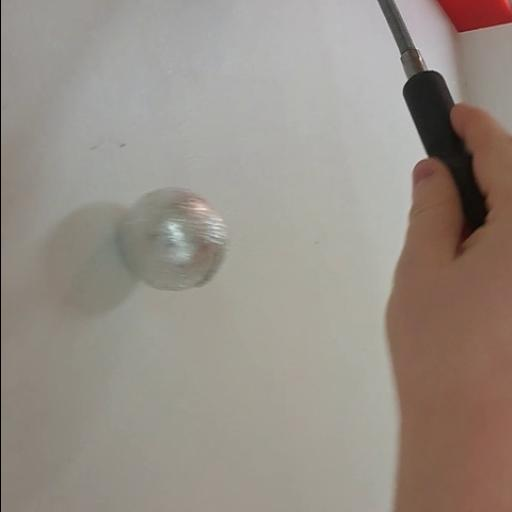alive: (114, 182, 232, 296)
